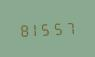eight: (18, 21, 29, 37)
five: (54, 19, 65, 36), (42, 20, 53, 36)
one: (30, 20, 41, 37)
seven: (66, 19, 77, 35)
